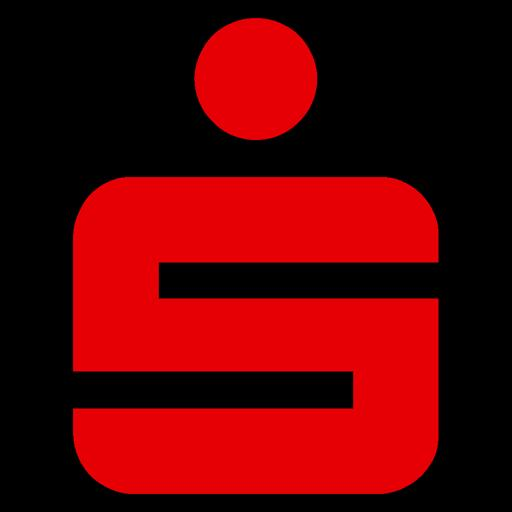Sparkasse Bank: (55, 0, 457, 512)
